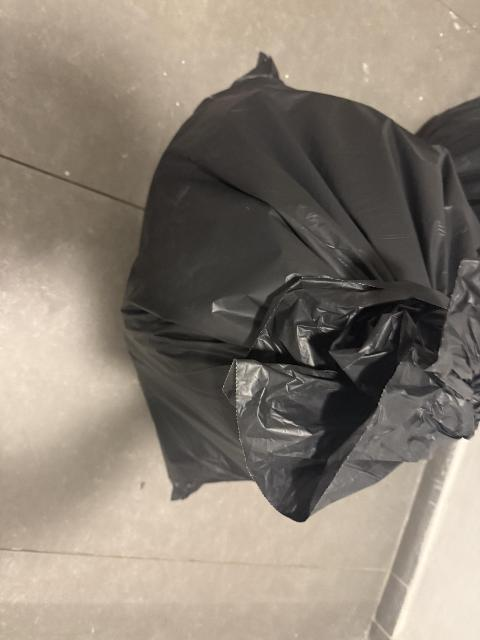Plastik: (119, 66, 480, 497)
